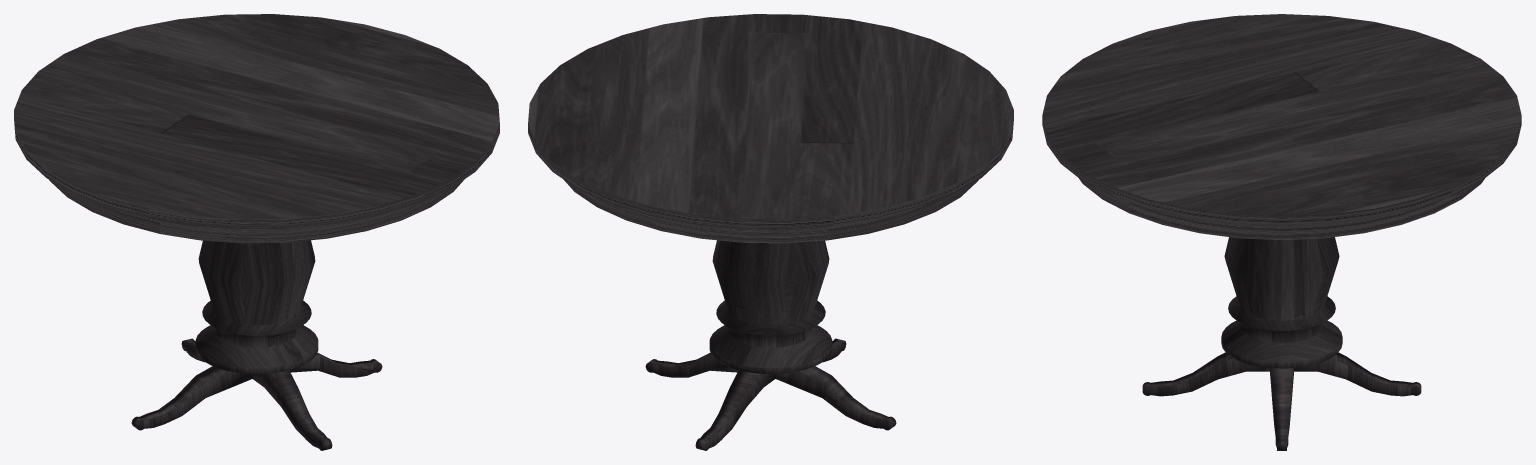
The model's file is round_table.fbx.
3 renders of one model, left to right at view 1: azimuth 30°, elevation 25°; view 2: azimuth 150°, elevation 25°; view 3: azimuth 270°, elevation 25°, orthographic.
Visible parts, largest first — view 1: Table Top, Table Legs; view 2: Table Top, Table Legs; view 3: Table Top, Table Legs.
Boxes of the visible parts, <box> form: Table Top: <box>14,14,499,243</box>; Table Legs: <box>131,240,382,450</box>; Table Top: <box>528,14,1013,243</box>; Table Legs: <box>645,240,896,450</box>; Table Top: <box>1042,14,1521,240</box>; Table Legs: <box>1142,237,1421,450</box>.
Size of the model in its own units: 3.75 by 2.4 by 3.75.
Materials: 1 (1 with a texture image).
